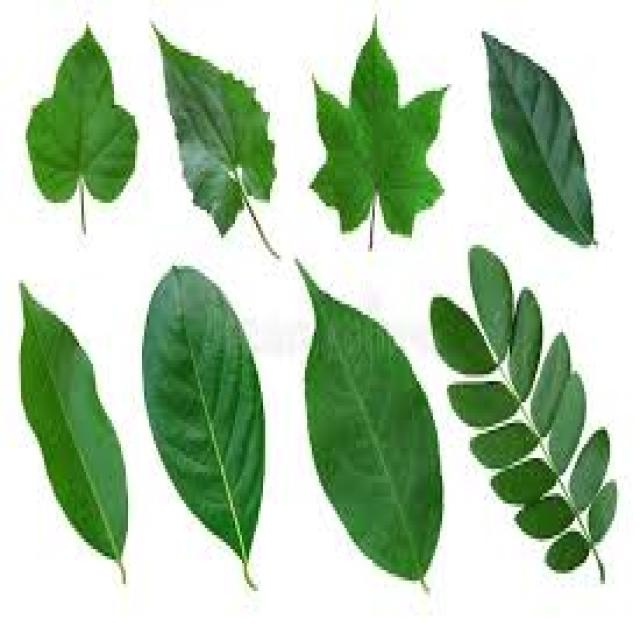leaves: (299, 265, 443, 578), (146, 267, 265, 583), (311, 26, 445, 234), (24, 293, 127, 557), (157, 32, 275, 245), (484, 32, 591, 243), (26, 28, 137, 209), (433, 300, 496, 373), (473, 246, 513, 360), (531, 334, 570, 435), (510, 289, 543, 399), (549, 374, 584, 472), (449, 381, 519, 425), (471, 423, 539, 467), (571, 428, 607, 508), (491, 458, 556, 502), (516, 496, 574, 537), (589, 481, 615, 540)
